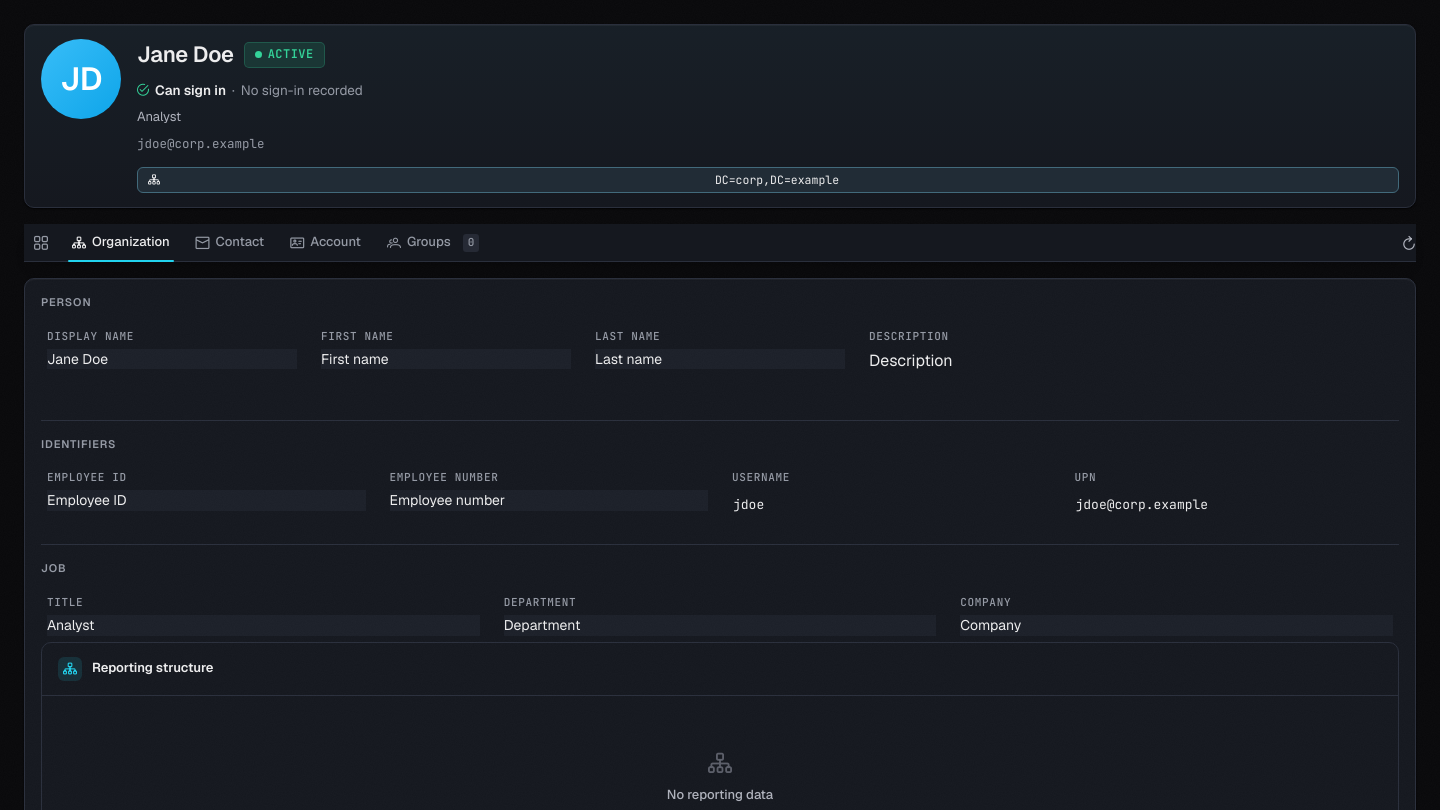
editing a user without an elevated session › is clean again once the save lands
The image size is (1440, 810).
Replace the text in the field with placeholder "Title" below "Title" with "Engineer": (263, 625) left=47, top=615, right=480, bottom=636
(page scrolled)
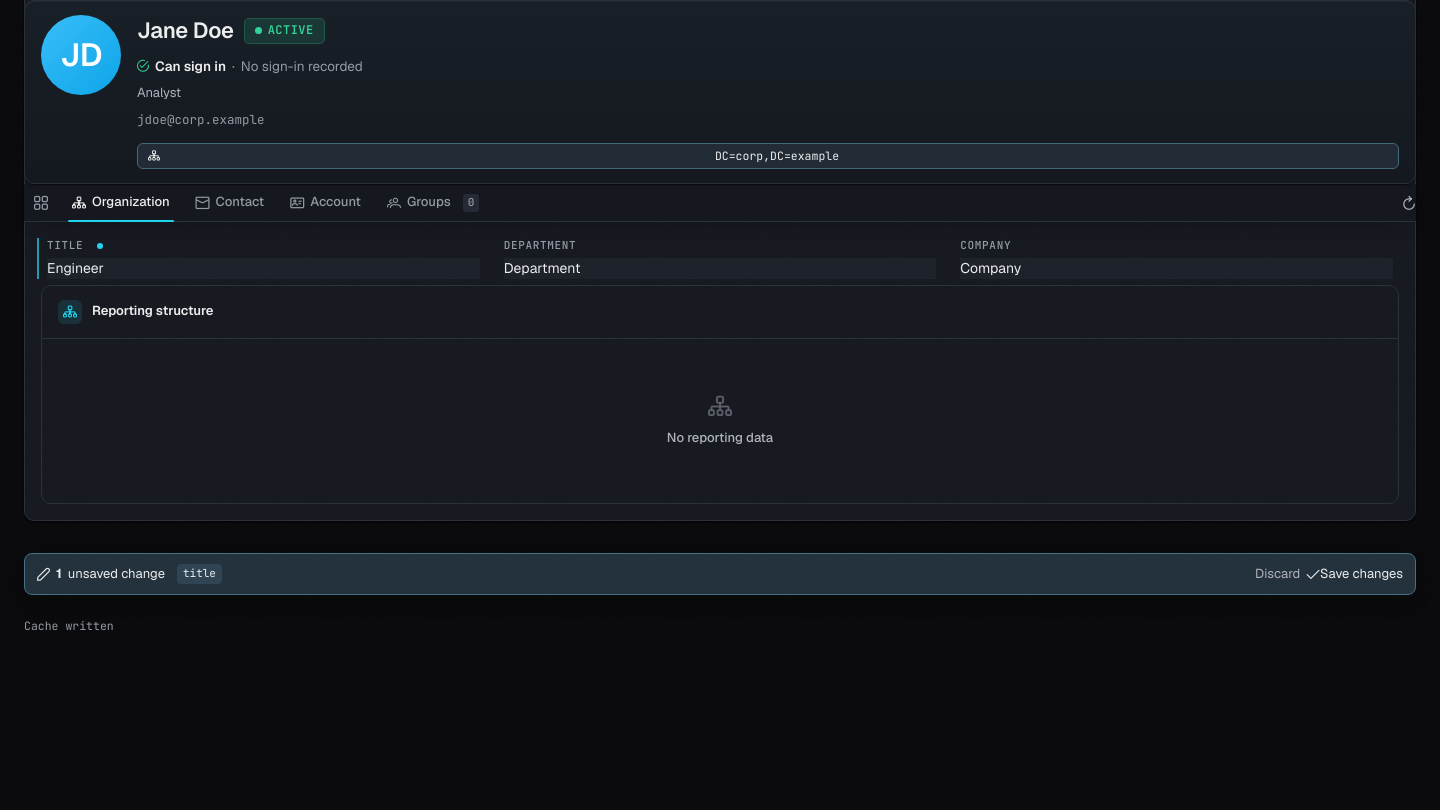
Expected: the button "Save changes" is shown
Click the button "Save changes": (1355, 574) left=1306, top=565, right=1403, bottom=584
(page scrolled)
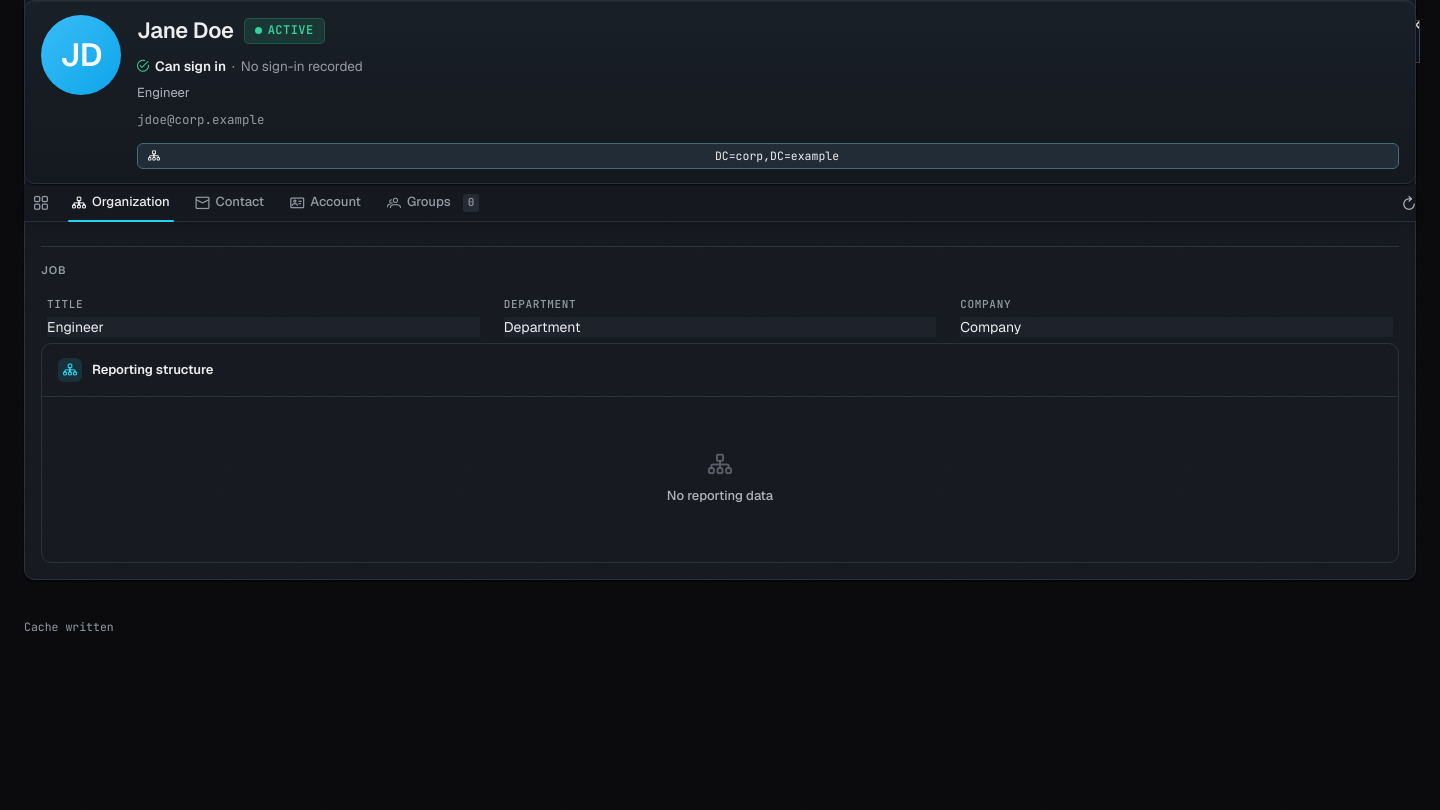
Expected: the text "unsaved change" is gone
